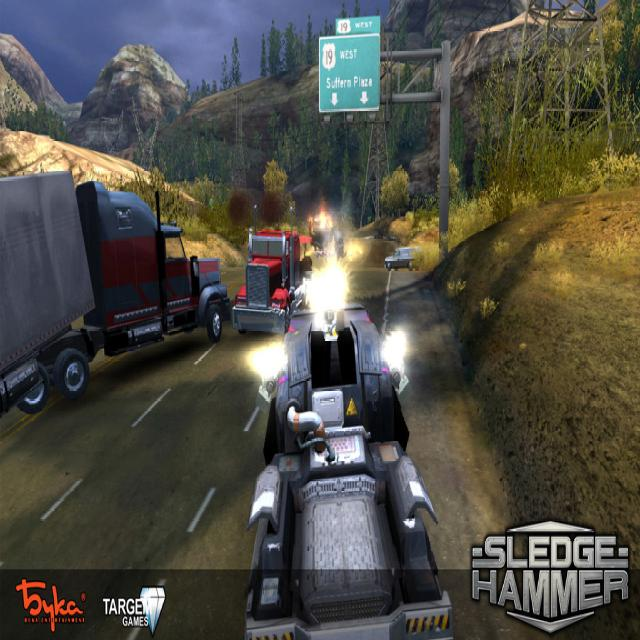car: (384, 247, 421, 271)
